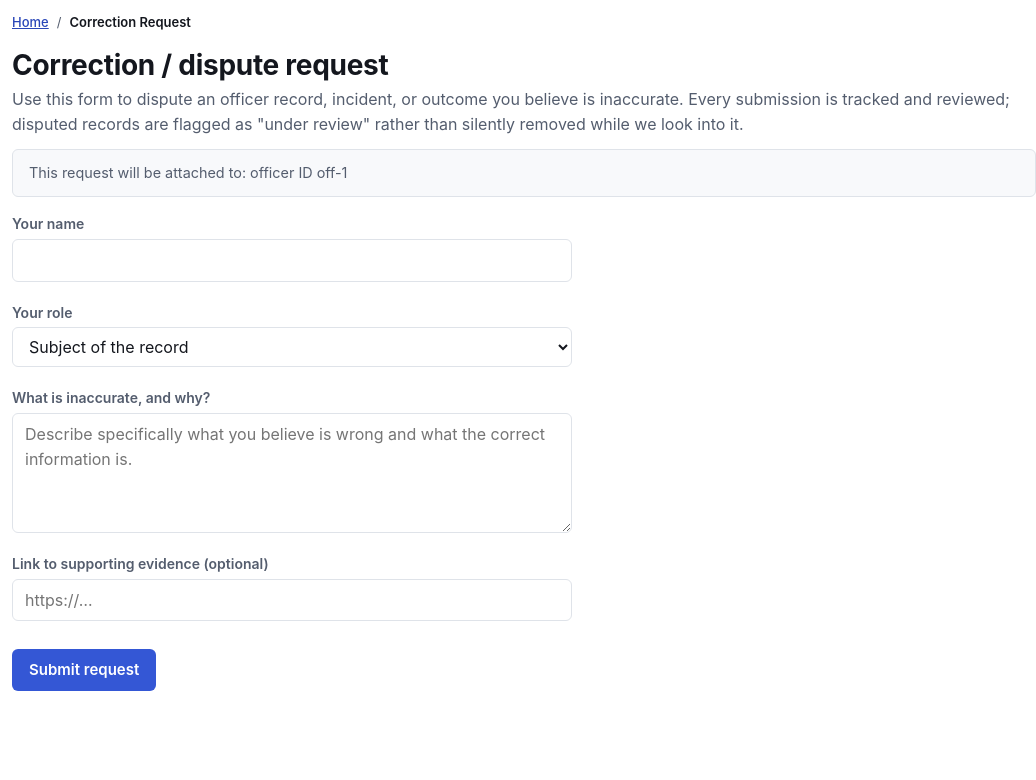
DisputeFormPage › the "exactly one of incident/outcome/officer id" constraint (DESIGN.md §10, enforced server-side) › forwards only officerId when that's the only target param present in the URL
The image size is (1036, 780).
Type "Jane Doe" into the field labelled "Your name".
click(292, 260); type("Jane Doe")  # box [12,239,572,282]
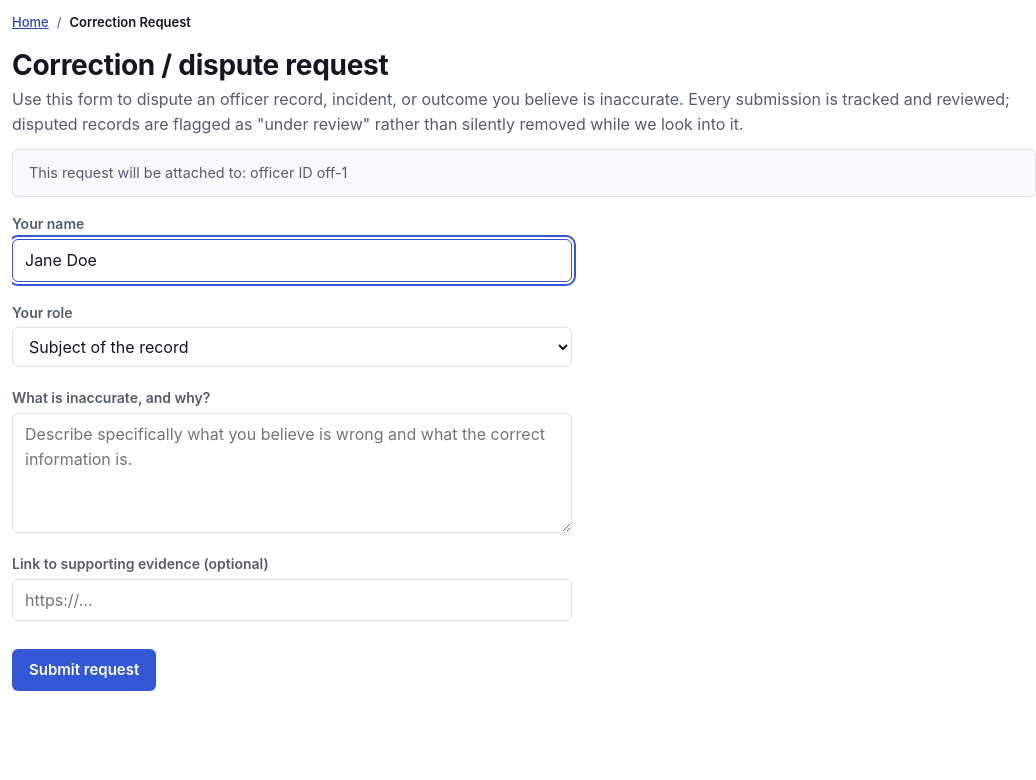
Type "The date is wrong." into the text box labelled "What is inaccurate, and why?".
click(292, 473); type("The date is wrong.")  # box [12,413,572,533]
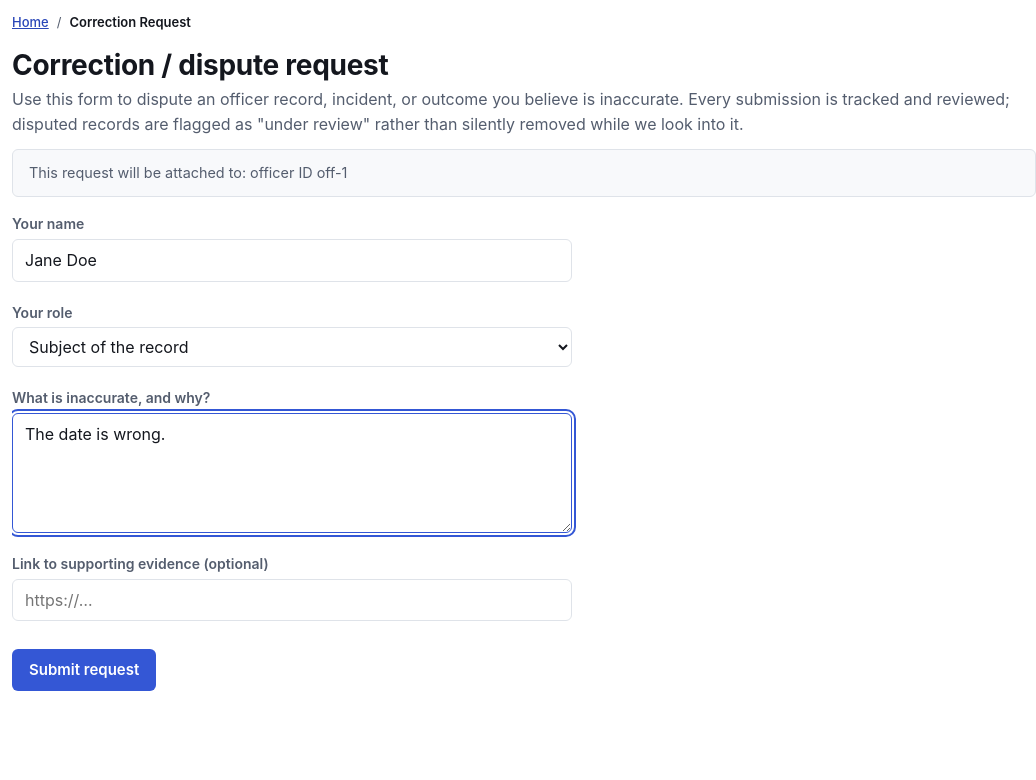
Click the button "Submit request".
click(84, 670)  # box [12,649,156,691]
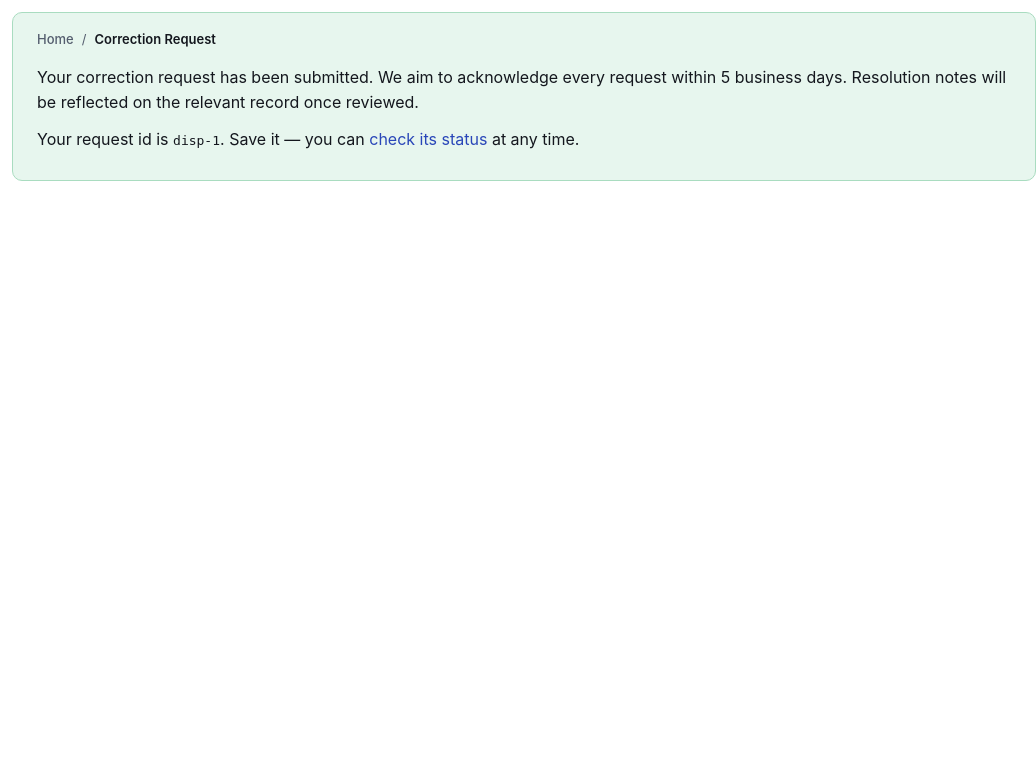
Check: the text "has been submitted" is shown, box [37,67,1006,112]
